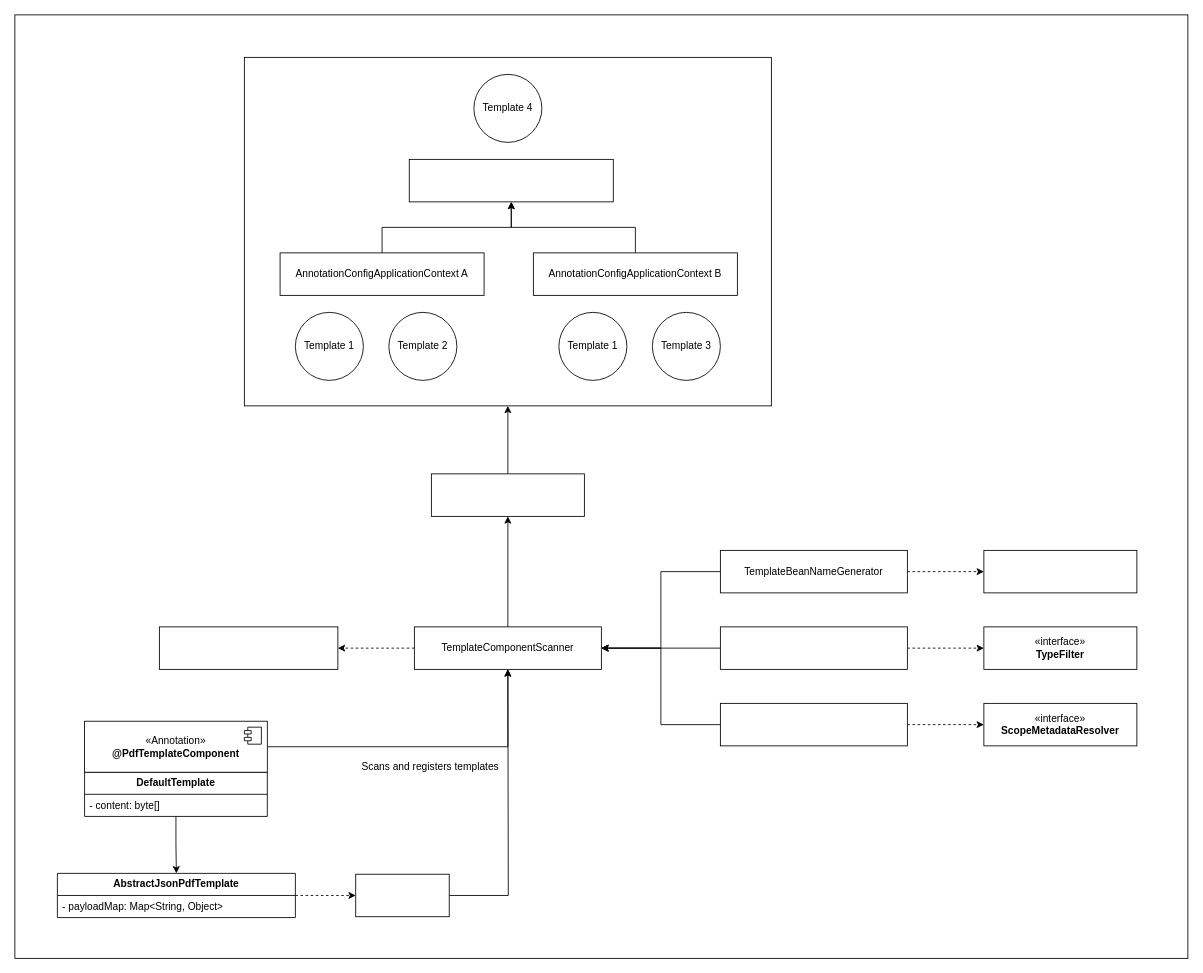
The diagram is 1203 pixels wide and 973 high, and some of its shapes have lost their labels. Each missing label, with the centre of its shape:
"PdferRegistryContainer" belongs at pixel 507 494.
"Root AnnotationConfigApplicationContext" belongs at pixel 510 180.
"TemplateExcludeFilter" belongs at pixel 813 647.
"TemplateScopeMetadataResolver" belongs at pixel 813 724.
"«interface» BeanNameGenerator" belongs at pixel 1060 571.
"«interface» ClassPathBeanDefinitionScanner" belongs at pixel 248 647.
"«interface» PdfTemplate" belongs at pixel 402 895.
